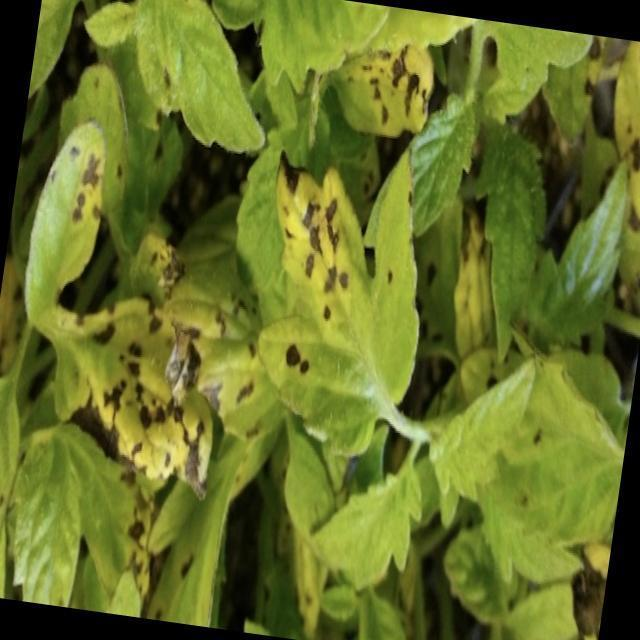Bacterial Spot: (256, 142, 386, 341), (84, 315, 228, 493), (344, 32, 444, 146), (229, 332, 328, 442), (38, 130, 112, 238), (609, 41, 640, 252)
